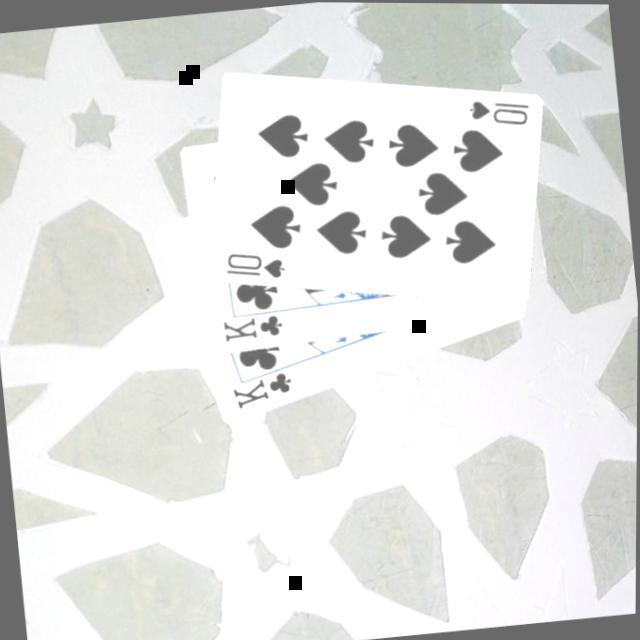10S: (464, 88, 534, 131), (222, 242, 290, 284)
KC: (228, 356, 301, 411), (220, 302, 294, 343)
